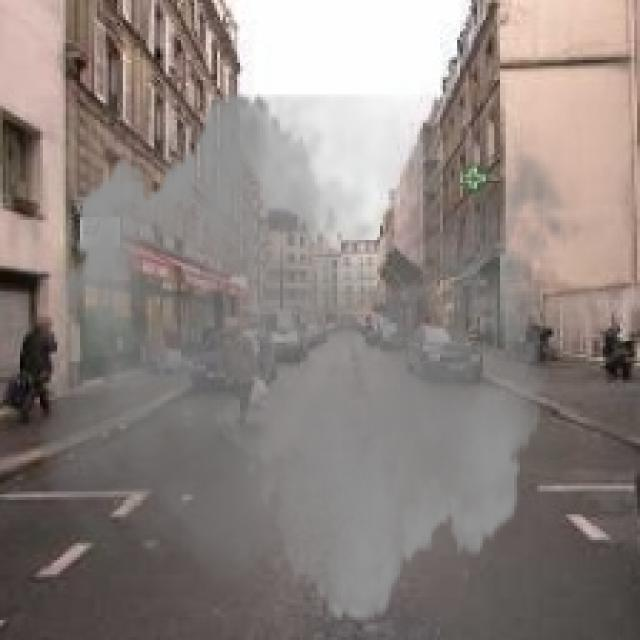Smoke: (26, 74, 588, 637)
